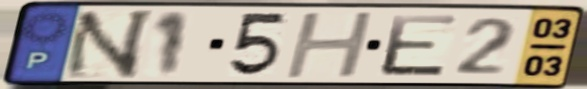1: (147, 10, 188, 80)
2: (452, 15, 520, 77)
5: (225, 10, 295, 79)
E: (377, 13, 462, 79)
H: (280, 9, 378, 81)
N: (59, 7, 160, 81)
